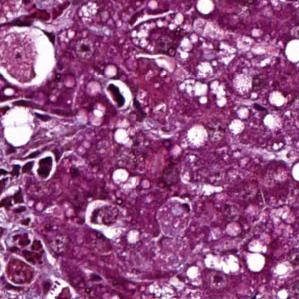ballooning: (0, 23, 59, 90)
